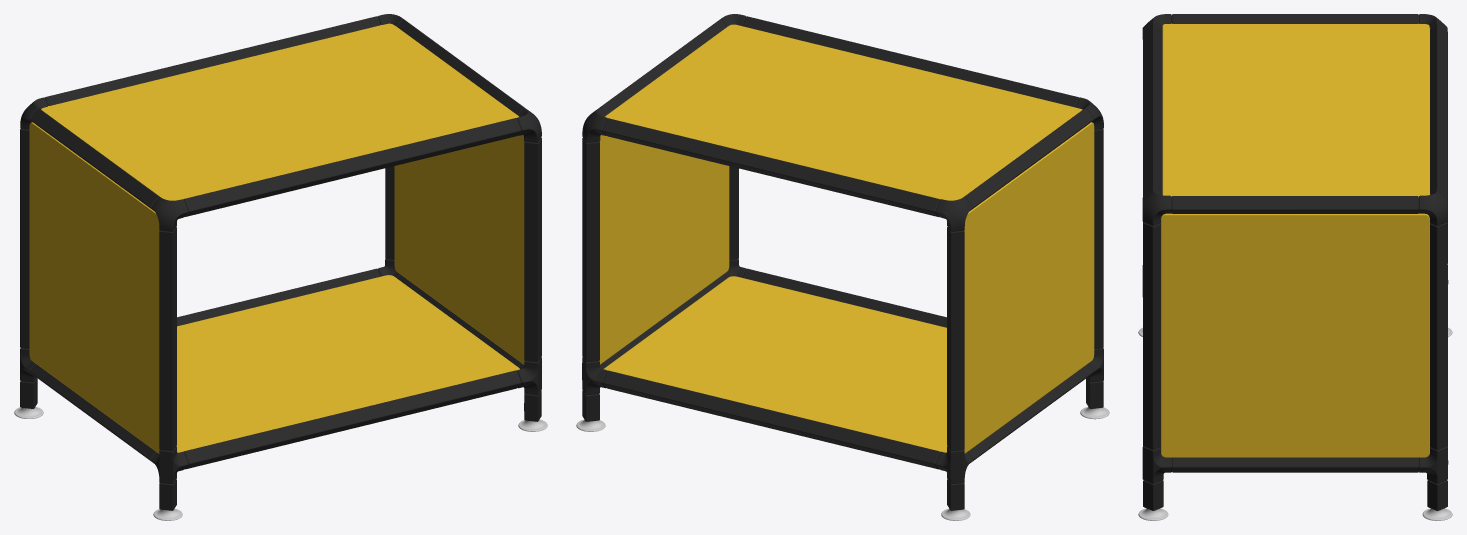
The picture shows the model from 3 angles, left to right: view 1: azimuth 30°, elevation 25°; view 2: azimuth 150°, elevation 25°; view 3: azimuth 270°, elevation 25°; orthographic projection. The views are drawn at different scales.
Visible parts, largest first — view 1: 523x329x329; view 2: 523x329x329; view 3: 523x329x329.
Part boxes in pixels (box(x1,y1,x2,y2)): 523x329x329: box(14, 14, 547, 520); 523x329x329: box(576, 14, 1109, 520); 523x329x329: box(1138, 14, 1452, 520).
Bounding box in the file's own units: 0.6129 × 0.4683 × 0.4182.
